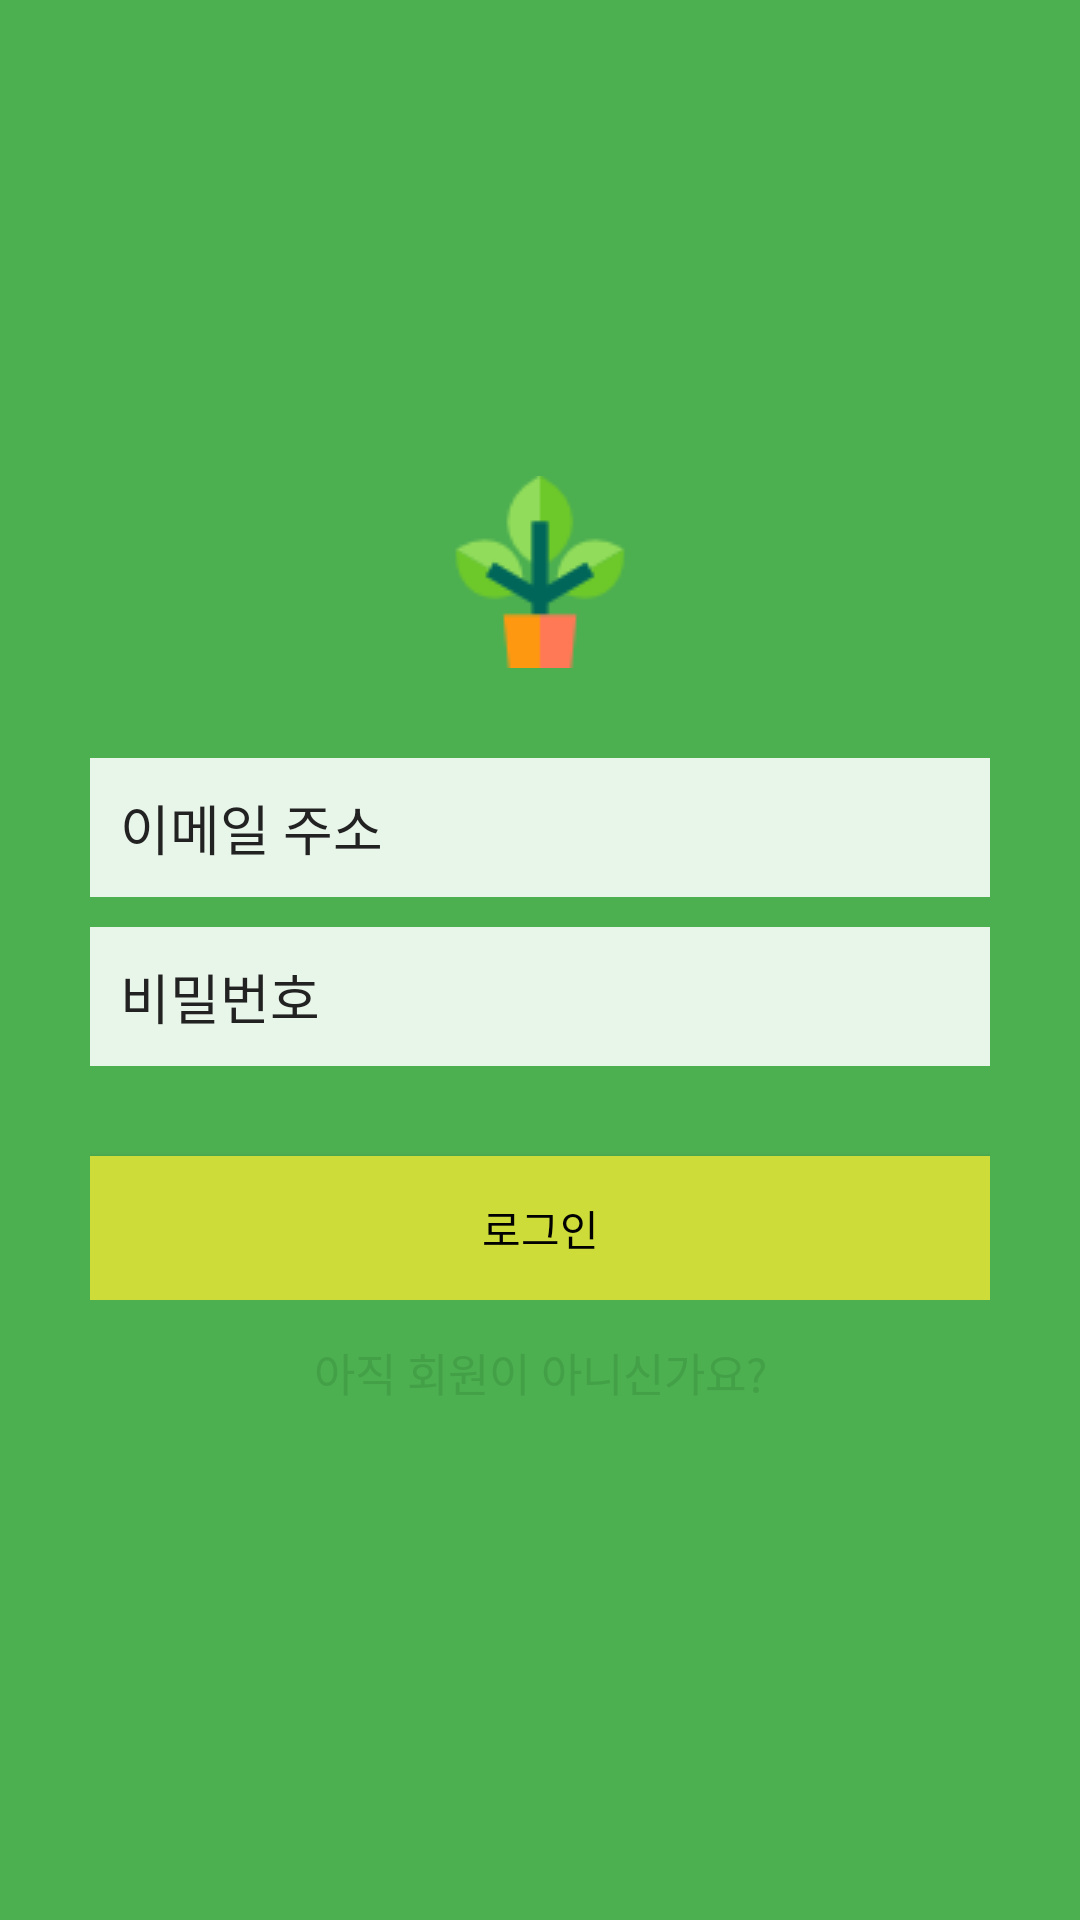

Point at icon controls on the screen. Image size 1080×1920, points as point (x, y).
plant low: point (540, 572)
